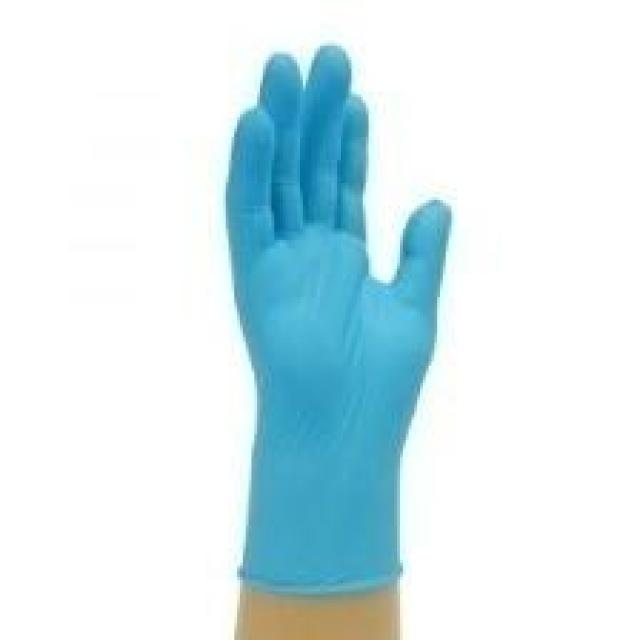Glove: (191, 16, 463, 640)
